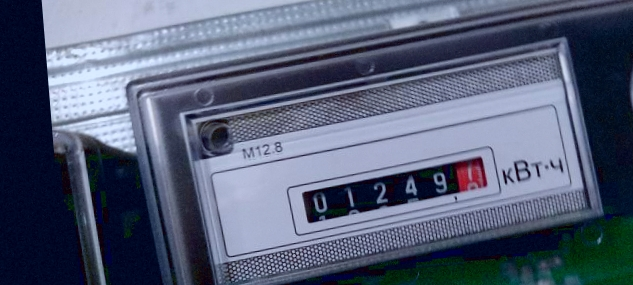0: (307, 186, 328, 213)
1: (339, 183, 356, 209)
2: (369, 178, 391, 205)
4: (400, 169, 421, 198)
7: (460, 157, 476, 182)
9: (429, 167, 449, 193)
screen: (278, 146, 516, 240)
